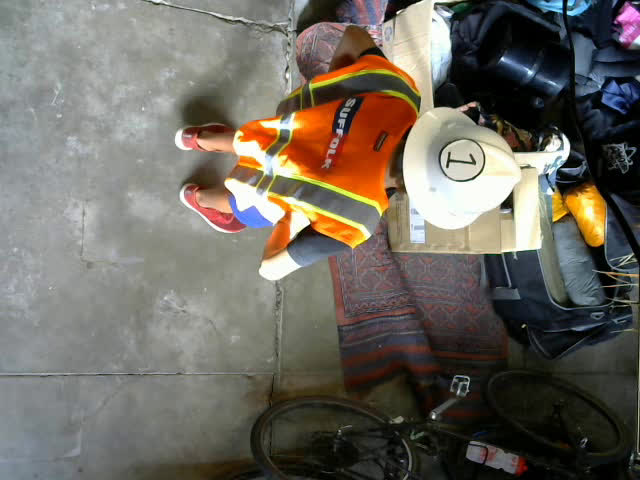one: (439, 138, 484, 180)
